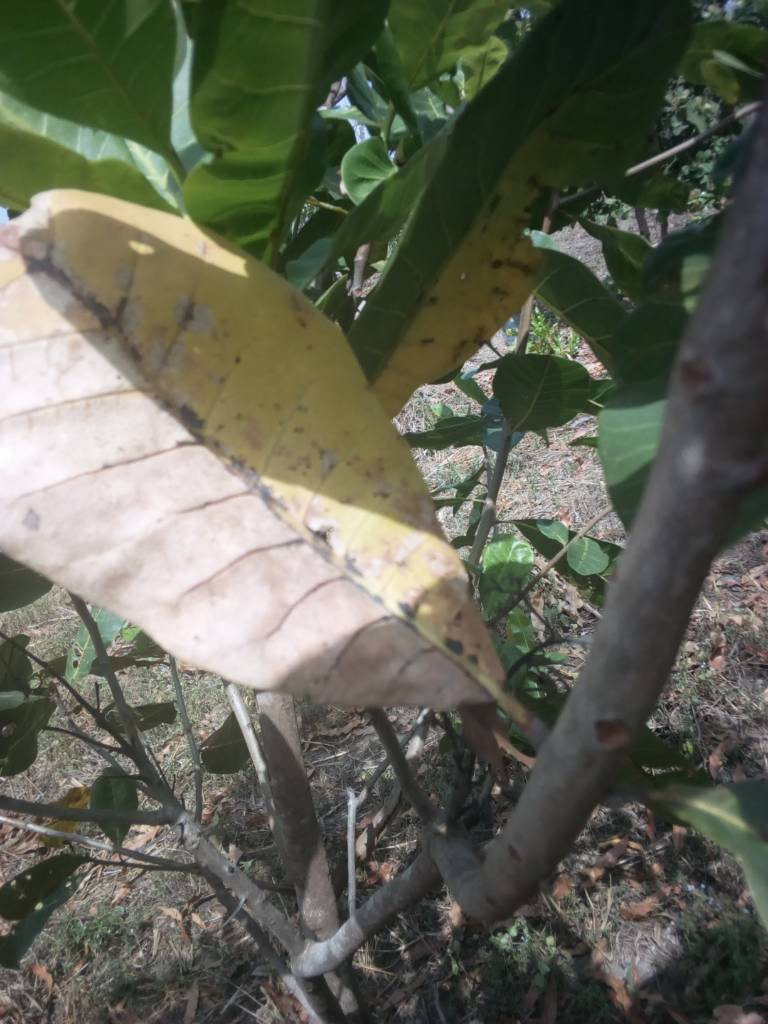Anthracnose: (1, 185, 508, 711)
